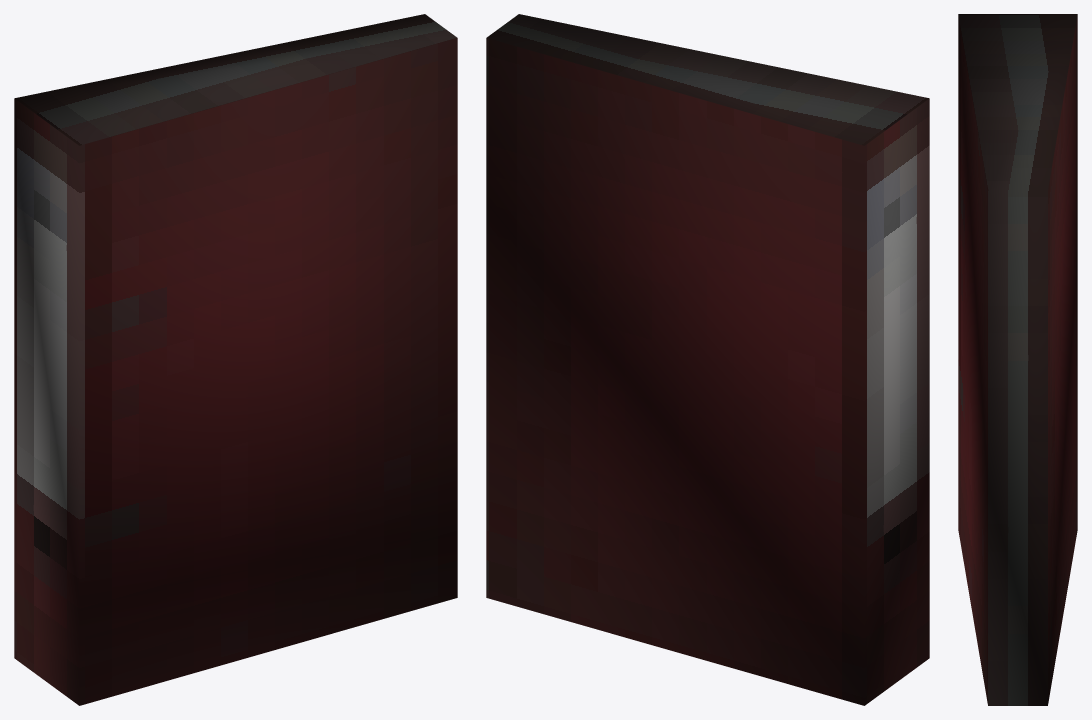
The model's file is PSXSurvivalHorror.glb.
3 views of the same model, side by side, from view 1: azimuth 30°, elevation 25°; view 2: azimuth 150°, elevation 25°; view 3: azimuth 270°, elevation 25° (orthographic). The views are drawn at different scales.
Parts seen in each view (by area): view 1: MESH-File1; view 2: MESH-File1; view 3: MESH-File1.
Part boxes in pixels (x1,y1,x2,y2): MESH-File1: (14, 14, 457, 705); MESH-File1: (486, 14, 929, 705); MESH-File1: (958, 14, 1077, 705).
Size of the model in its own units: 28 by 38 by 8.
Materials: 1 (1 with a texture image).
